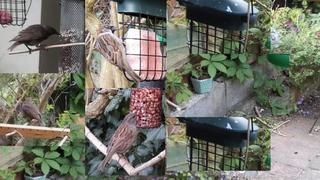dunnock: (97, 112, 141, 171)
sparrow: (96, 24, 143, 84)
starling: (7, 24, 61, 54), (22, 97, 46, 127)
